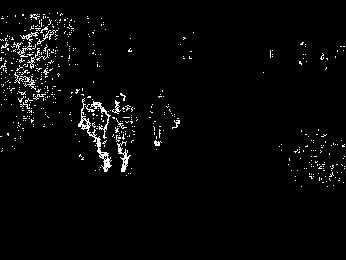person: (79, 94, 114, 173), (146, 87, 179, 151), (111, 93, 136, 175)
